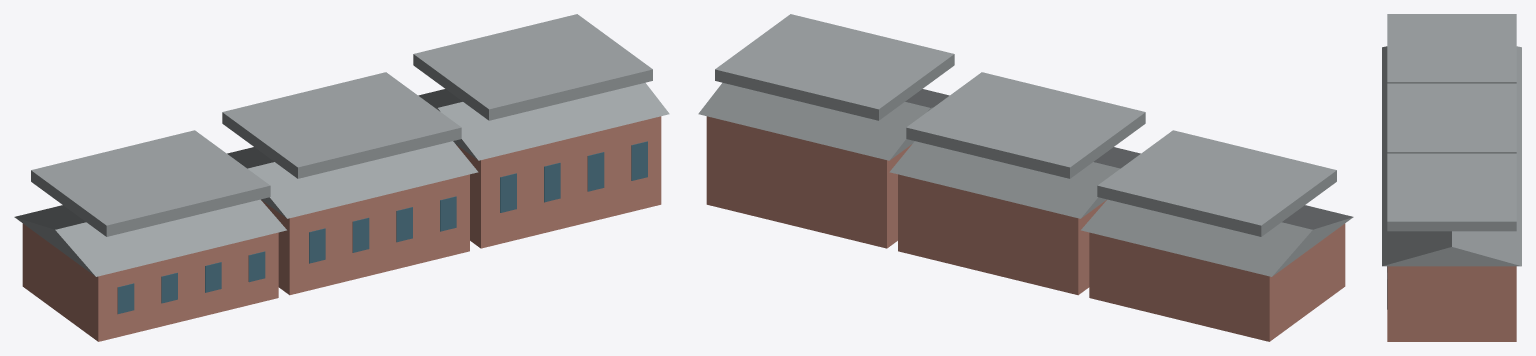
Rendered from source.glb.
3 renders of one model, left to right at view 1: azimuth 30°, elevation 25°; view 2: azimuth 150°, elevation 25°; view 3: azimuth 270°, elevation 25°, orthographic. The views are drawn at different scales.
Parts seen in each view (by area): view 1: worldgen; view 2: worldgen; view 3: worldgen.
Boxes of the visible parts, x1=… form: worldgen: x1=14, y1=14, x2=669, y2=341; worldgen: x1=698, y1=14, x2=1353, y2=341; worldgen: x1=1382, y1=14, x2=1521, y2=341.
Size of the model in its own units: 105 by 24 by 26.
